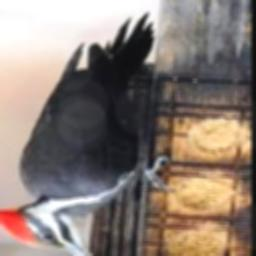Woodpecker: (0, 13, 172, 256)
